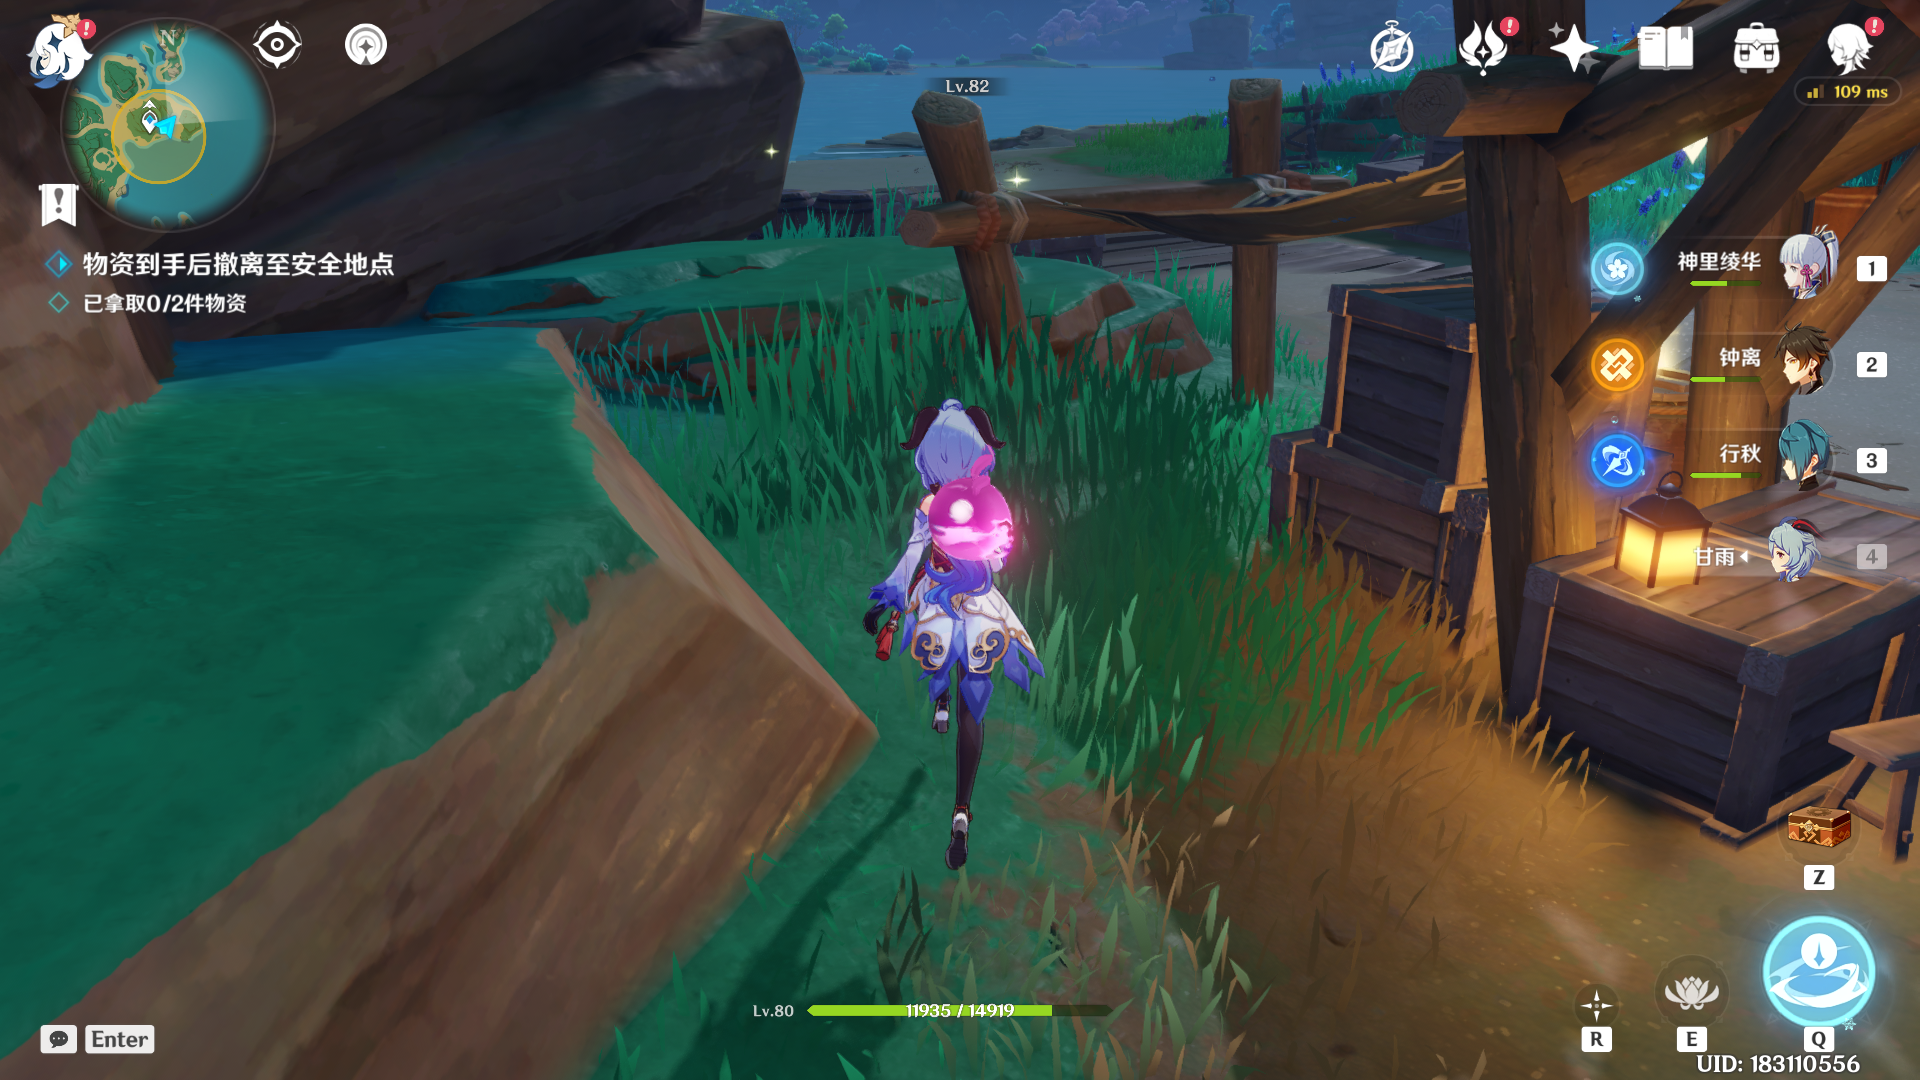character: (825, 349, 1087, 899)
